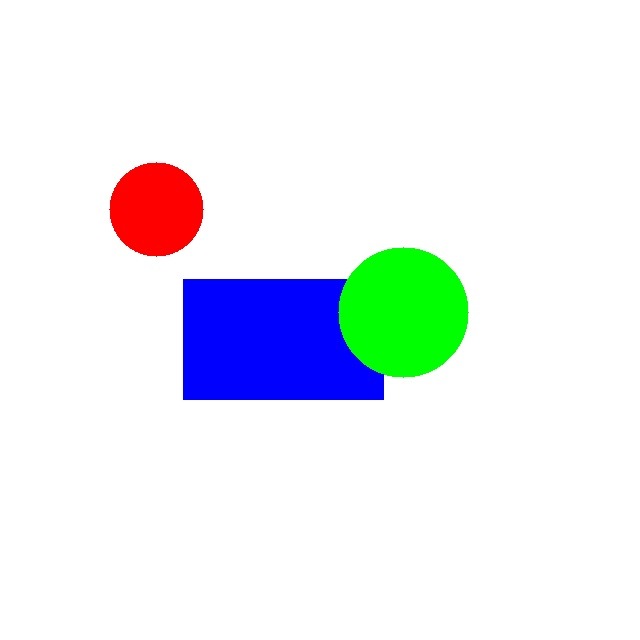cartao: (183, 279, 383, 399)
rosca_externa: (338, 247, 468, 377)
rosca_interna: (109, 162, 203, 256)
